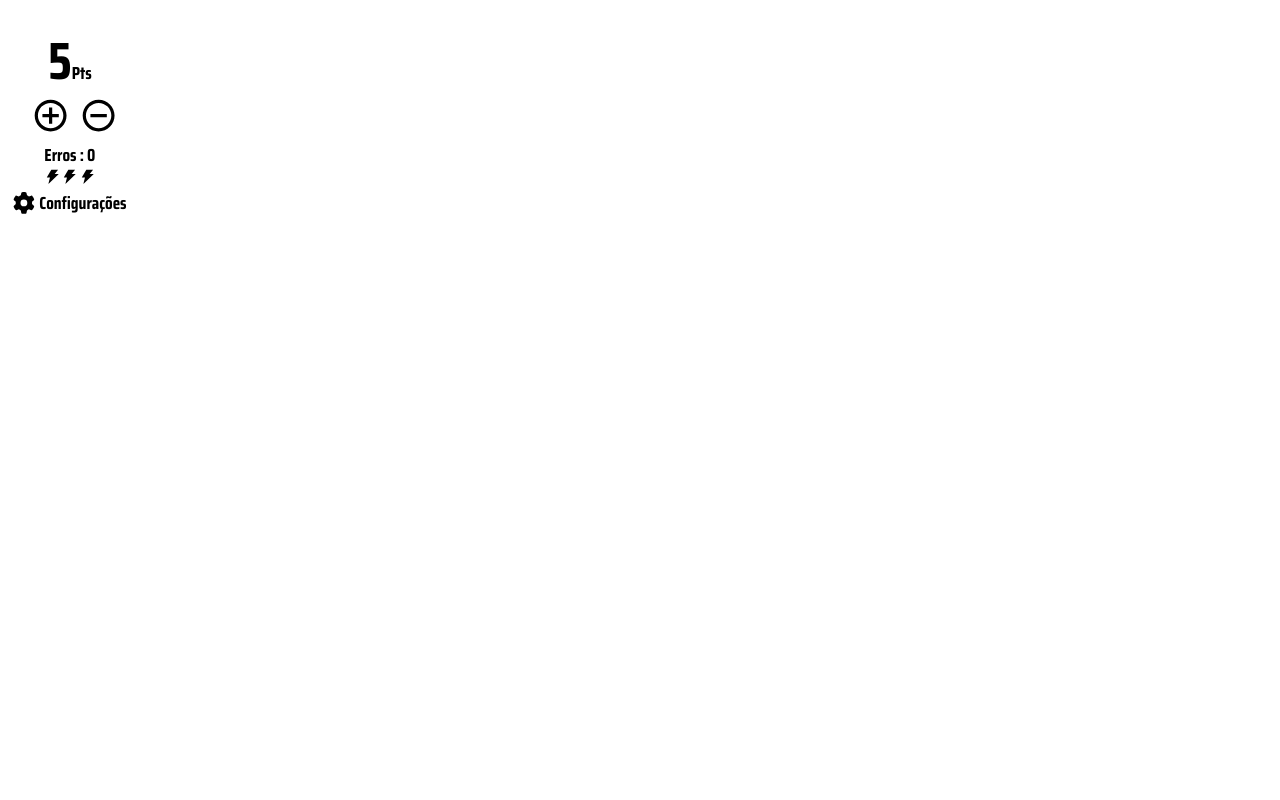
Test: CountCard Config › deve aceitar apenas números no campo energia
Click the text "Configurações": (70, 203) [13, 189, 127, 217]
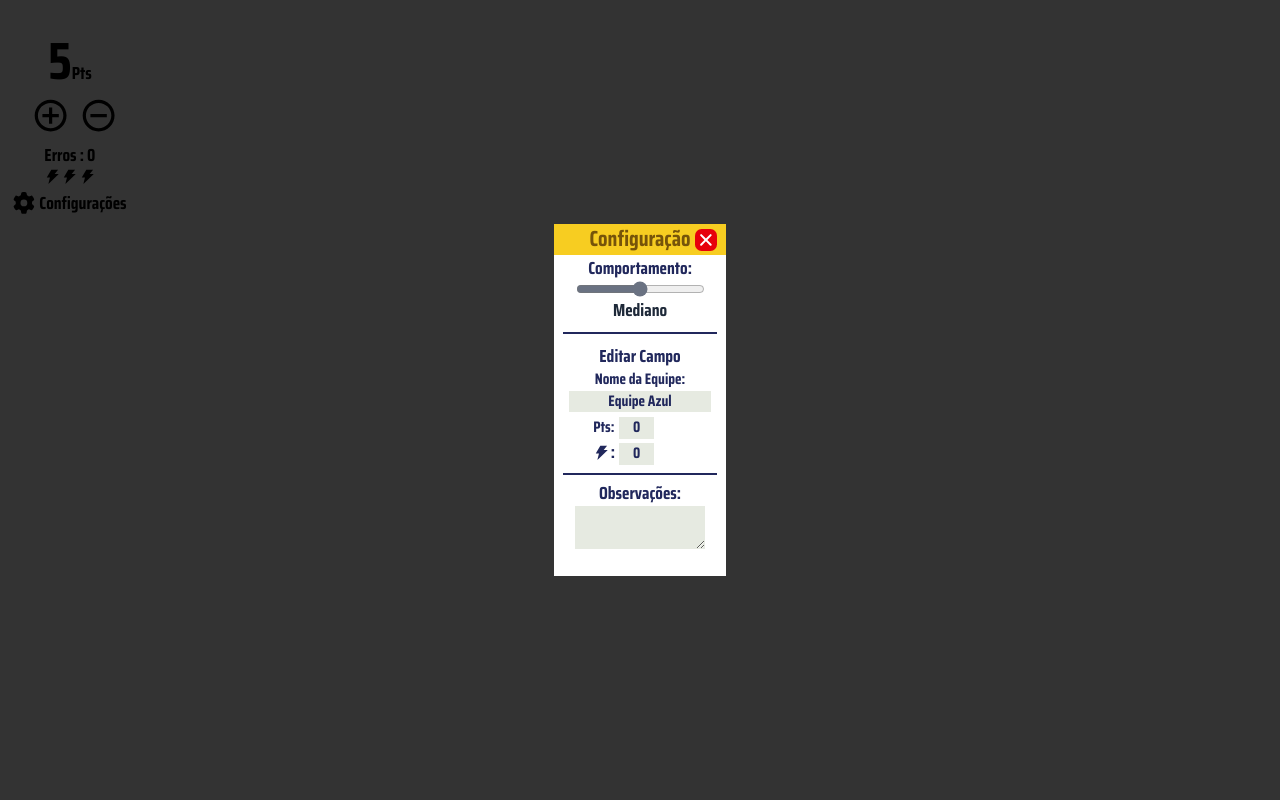
In the 3rd field: (637, 454) [619, 443, 654, 465], type "x9y"
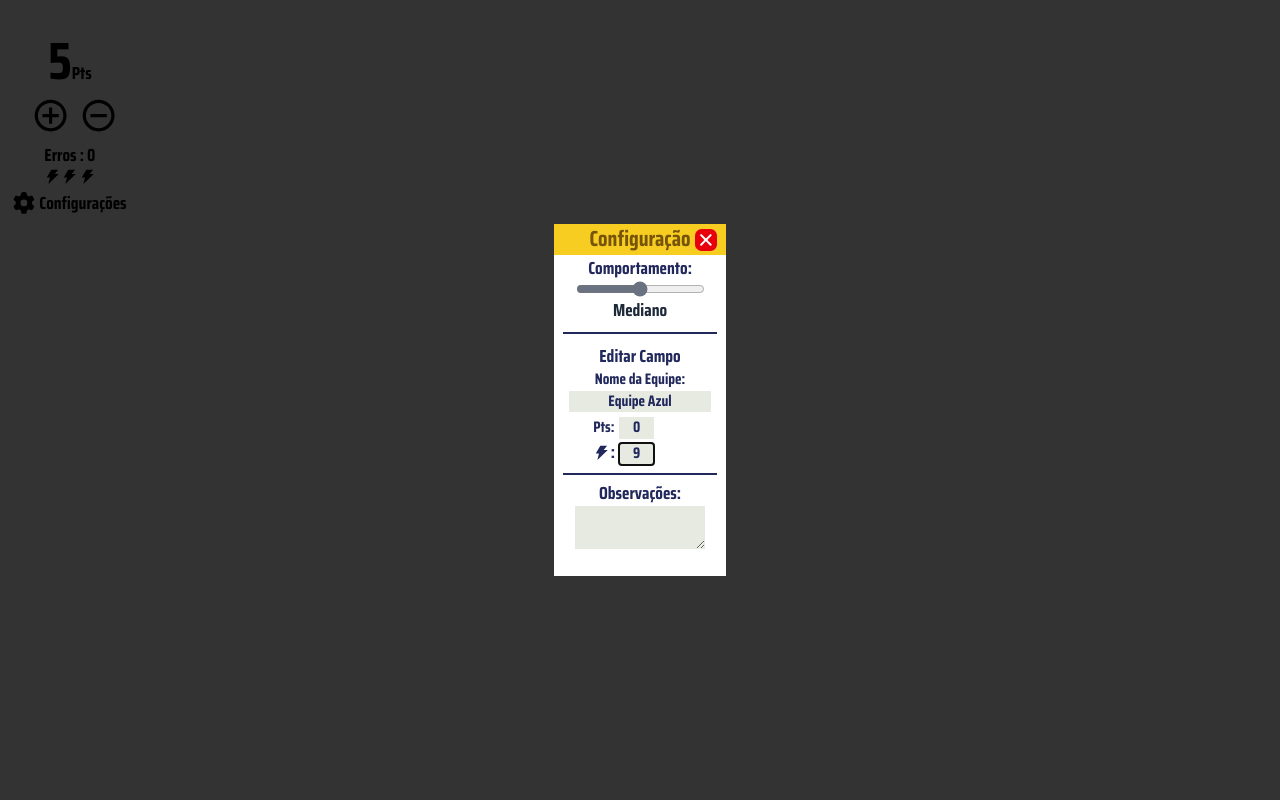
Check: the 3rd field holds "9", box [619, 443, 654, 465]
